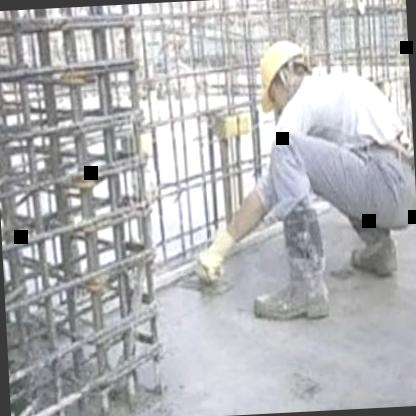helmet: (252, 31, 316, 116)
